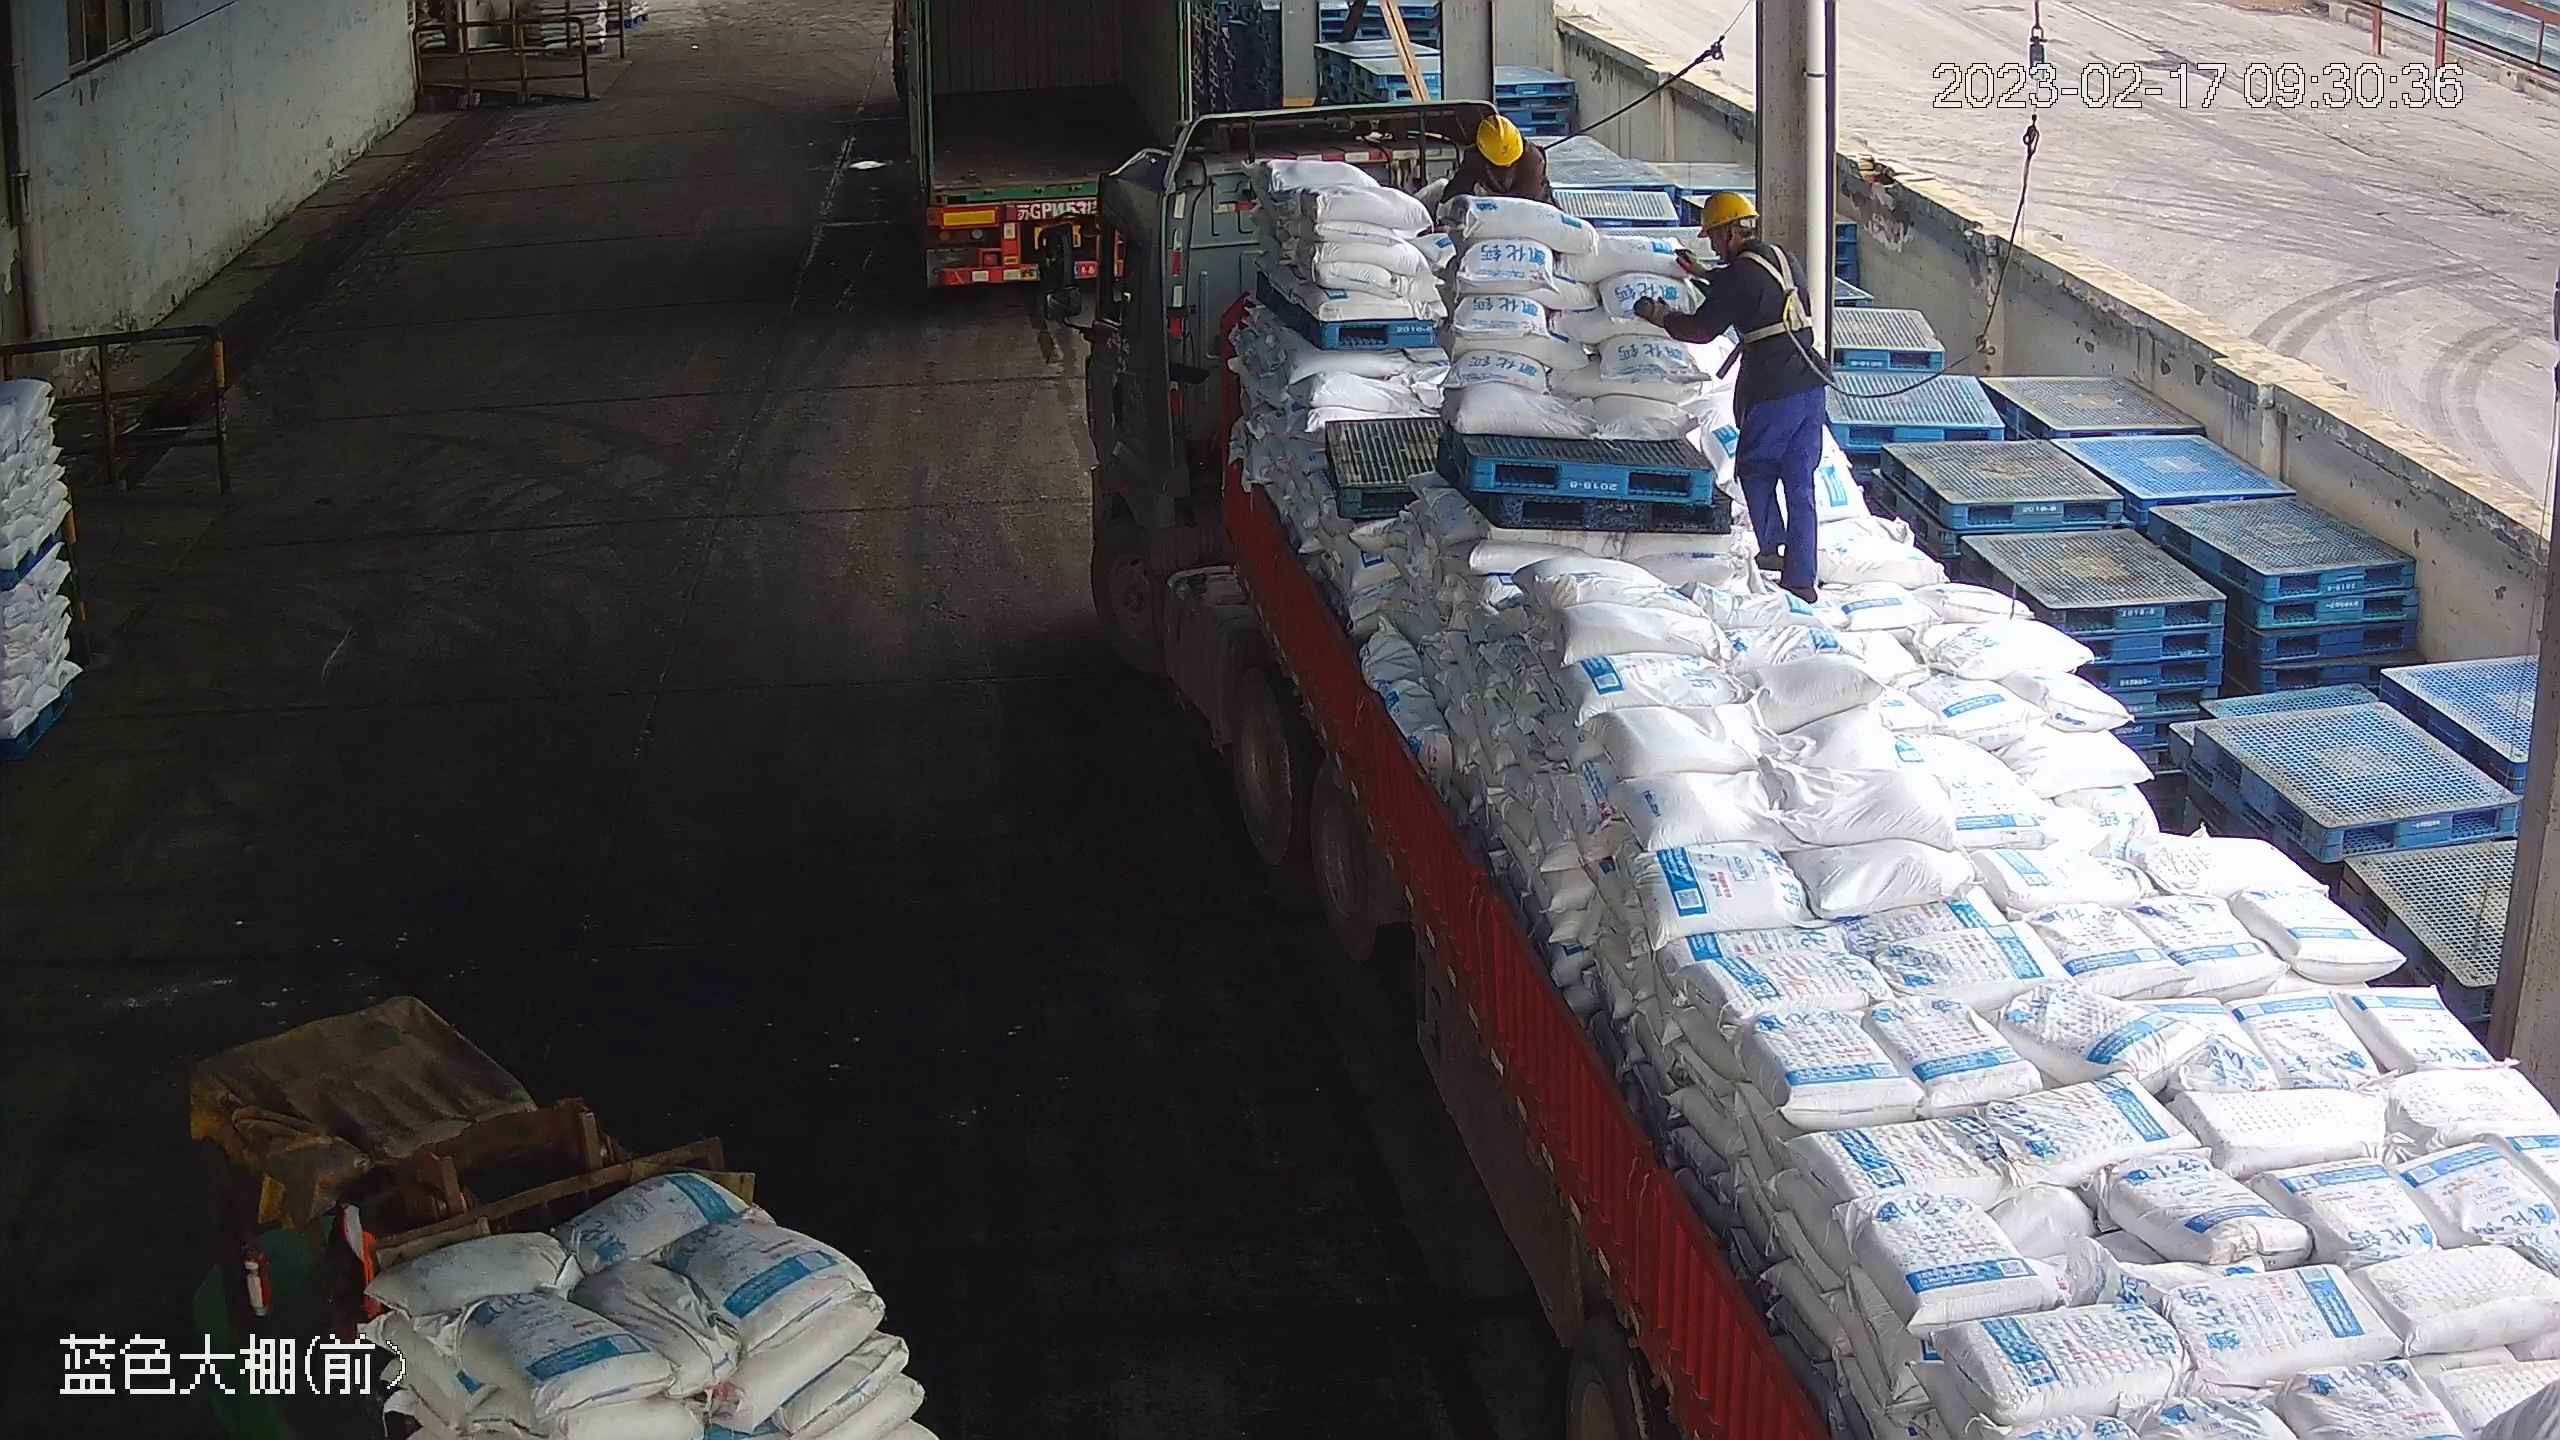belt: (1735, 240, 1826, 356), (1472, 162, 1528, 195)
head: (1669, 191, 1816, 327), (1457, 115, 1551, 196)
helmet: (1697, 192, 1759, 238), (1477, 115, 1528, 166)
people: (1633, 190, 1832, 605)
truck: (1020, 96, 2560, 1440), (888, 1, 1206, 323)
